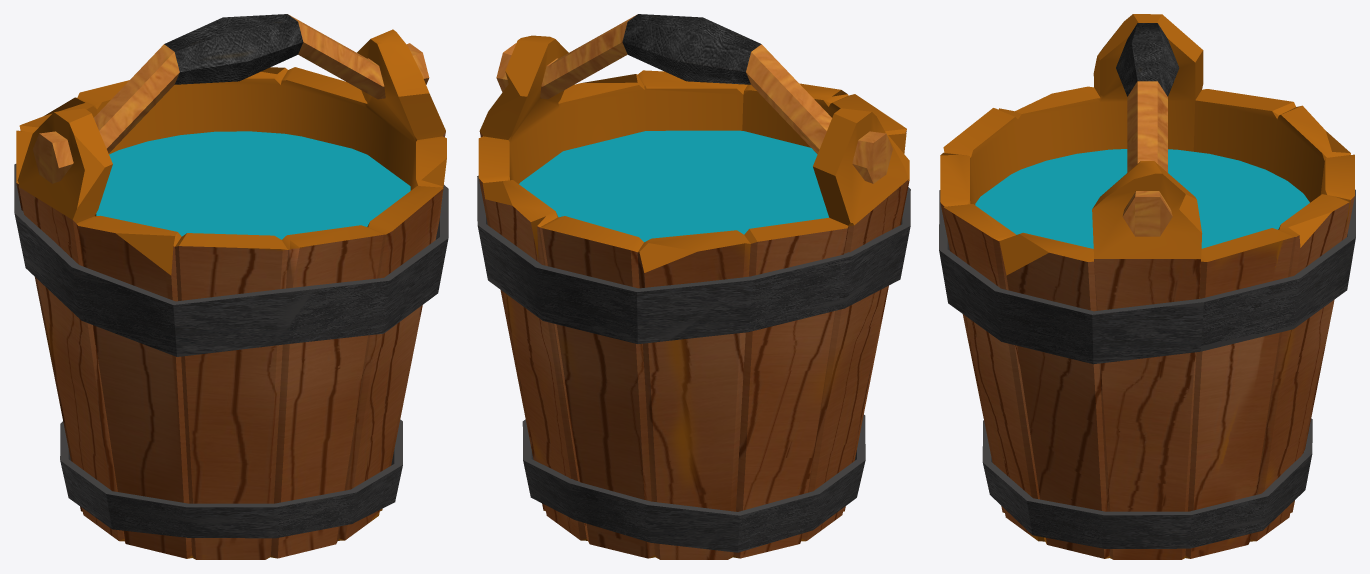
The model's file is bucketWater.fbx.
3 renders of one model, left to right at view 1: azimuth 30°, elevation 25°; view 2: azimuth 150°, elevation 25°; view 3: azimuth 270°, elevation 25°, orthographic. The views are drawn at different scales.
Parts seen in each view (by area): view 1: water bucket; view 2: water bucket; view 3: water bucket.
Boxes of the visible parts, <box> form: water bucket: <box>14,14,448,559</box>; water bucket: <box>477,14,910,559</box>; water bucket: <box>939,14,1355,559</box>.
Bounding box in the file's own units: 99.36 × 119 × 99.01.
